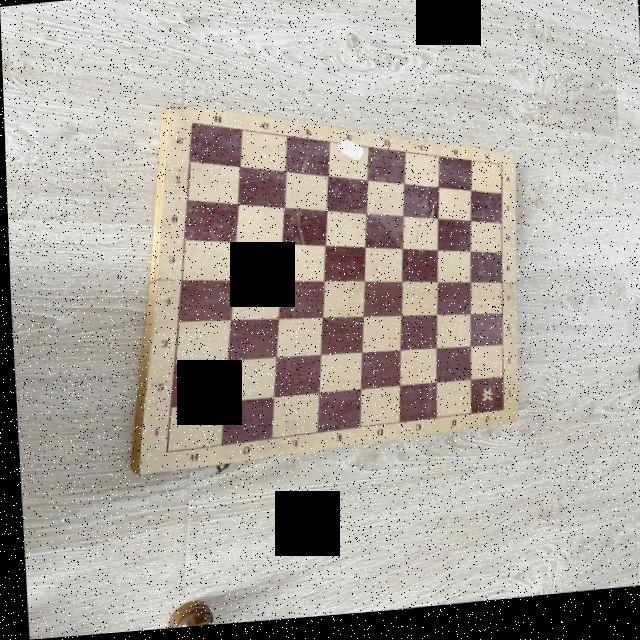chess-table-corners: (185, 120, 197, 130), (157, 449, 170, 458), (494, 412, 504, 422), (495, 168, 505, 175)
